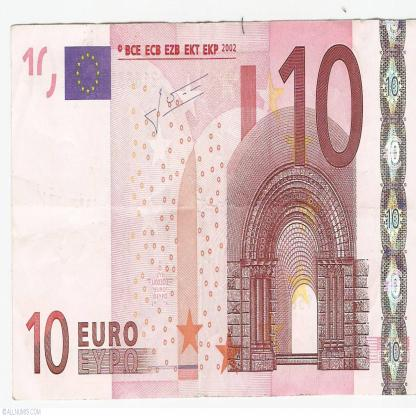euro_banknote: (11, 23, 415, 399)
